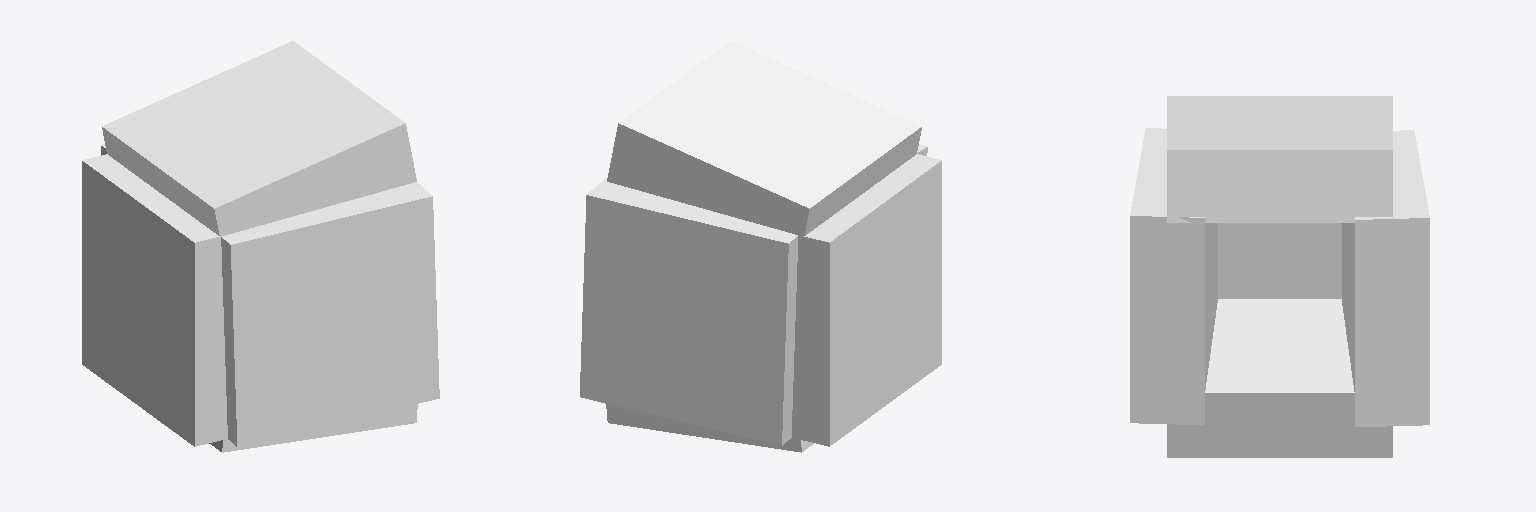
The model's file is taser_cartridge.obj.
3 renders of one model, left to right at view 1: azimuth 30°, elevation 25°; view 2: azimuth 150°, elevation 25°; view 3: azimuth 270°, elevation 25°, orthographic.
Visible parts, largest first — view 1: Shape4, Shape5, Shape1, Shape8, Shape2; view 2: Shape3, Shape5, Shape1, Shape8, Shape2; view 3: Shape5, Shape8, Shape3, Shape4, Shape1.
Boxes of the visible parts, <box> form: Shape4: <box>221,182,439,446</box>; Shape5: <box>102,41,416,235</box>; Shape1: <box>82,154,228,446</box>; Shape8: <box>209,404,417,452</box>; Shape2: <box>224,193,288,234</box>; Shape3: <box>580,177,797,445</box>; Shape5: <box>607,41,921,252</box>; Shape1: <box>792,154,941,446</box>; Shape8: <box>606,385,814,452</box>; Shape2: <box>735,193,799,275</box>; Shape5: <box>1167,96,1392,222</box>; Shape8: <box>1167,299,1392,457</box>; Shape3: <box>1342,130,1429,426</box>; Shape4: <box>1130,128,1217,424</box>; Shape1: <box>1218,223,1341,298</box>.
Size of the model in its own units: 0.2265 by 0.2779 by 0.2498.